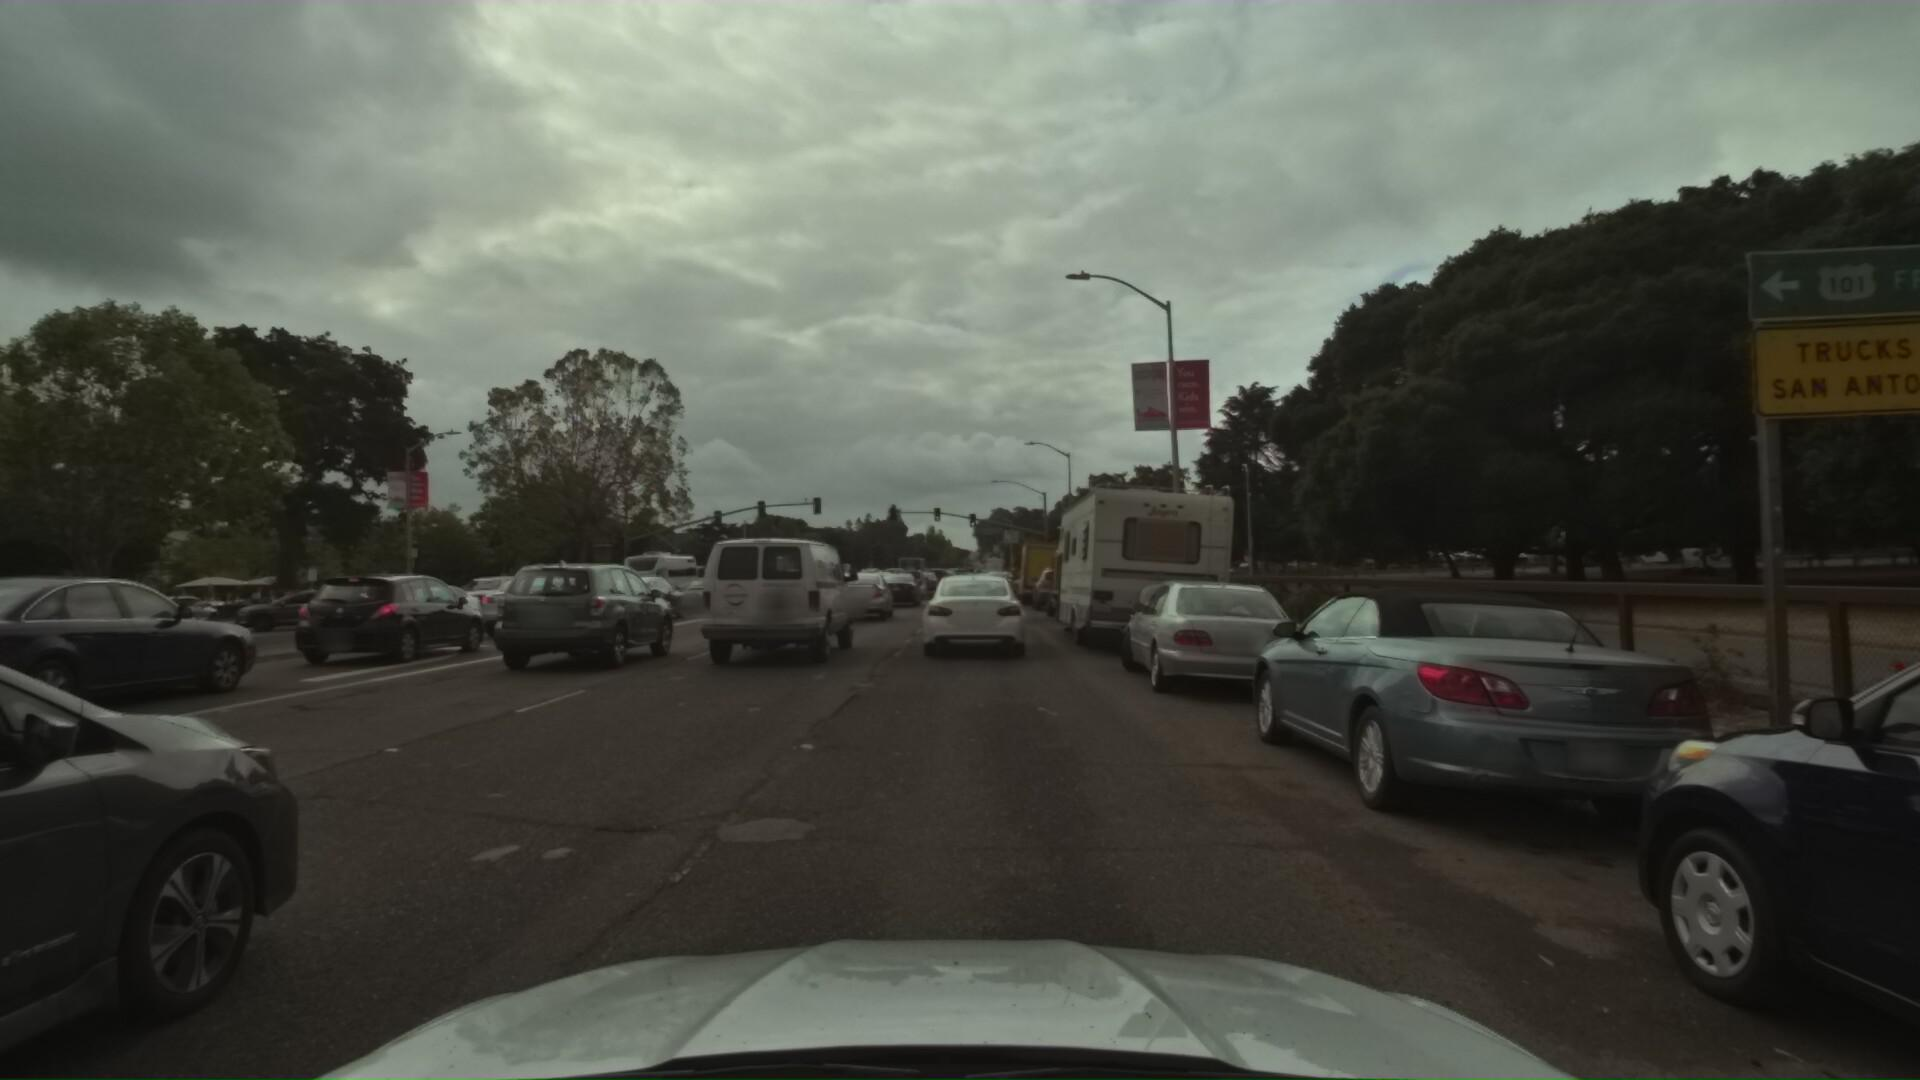bus: (599, 546, 698, 611)
car: (0, 421, 376, 1080), (1232, 587, 1782, 920), (1588, 578, 1920, 1080), (0, 570, 276, 764), (1117, 578, 1331, 731), (480, 560, 683, 682), (272, 568, 500, 674), (694, 531, 858, 676), (464, 568, 622, 640), (920, 574, 1025, 669), (327, 584, 475, 647), (1042, 541, 1135, 625), (222, 587, 342, 638), (585, 564, 694, 618), (928, 562, 1005, 632), (436, 575, 538, 626), (824, 568, 895, 626), (674, 568, 742, 612), (1029, 559, 1085, 611), (868, 570, 918, 608), (887, 566, 927, 600), (980, 568, 1025, 597), (911, 570, 942, 596)
other_vehicle: (1050, 464, 1262, 669)
truck: (1013, 531, 1087, 607), (659, 563, 713, 597)
